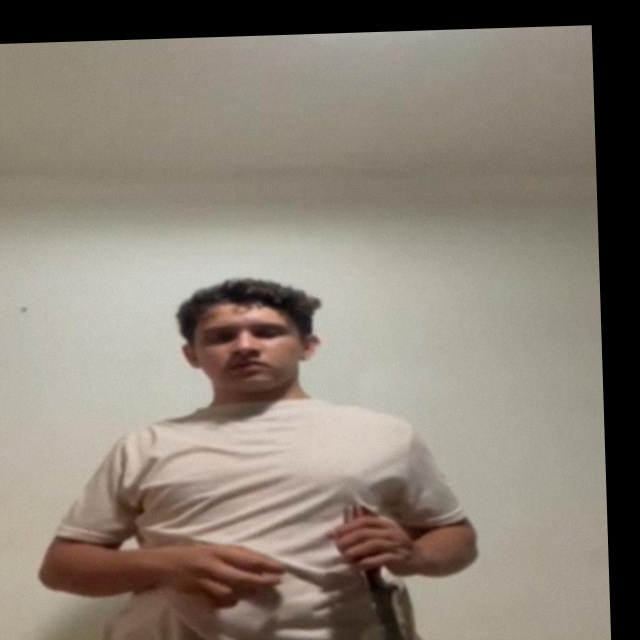Sharp-Object: (367, 577, 429, 640)
